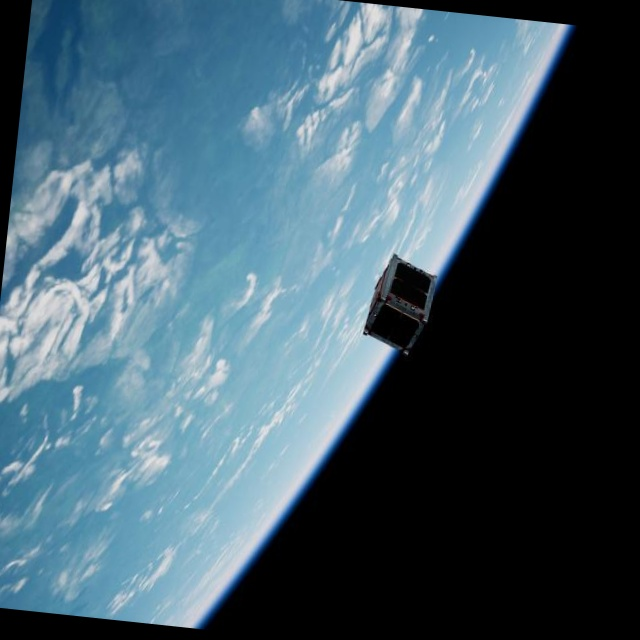medium_debris: (361, 249, 443, 362)
